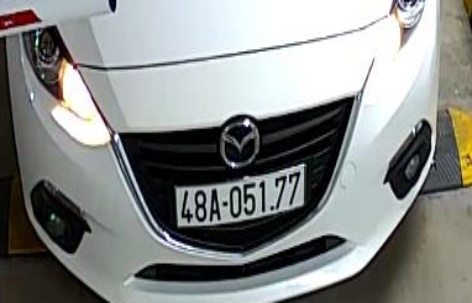plate: (166, 165, 317, 228)
